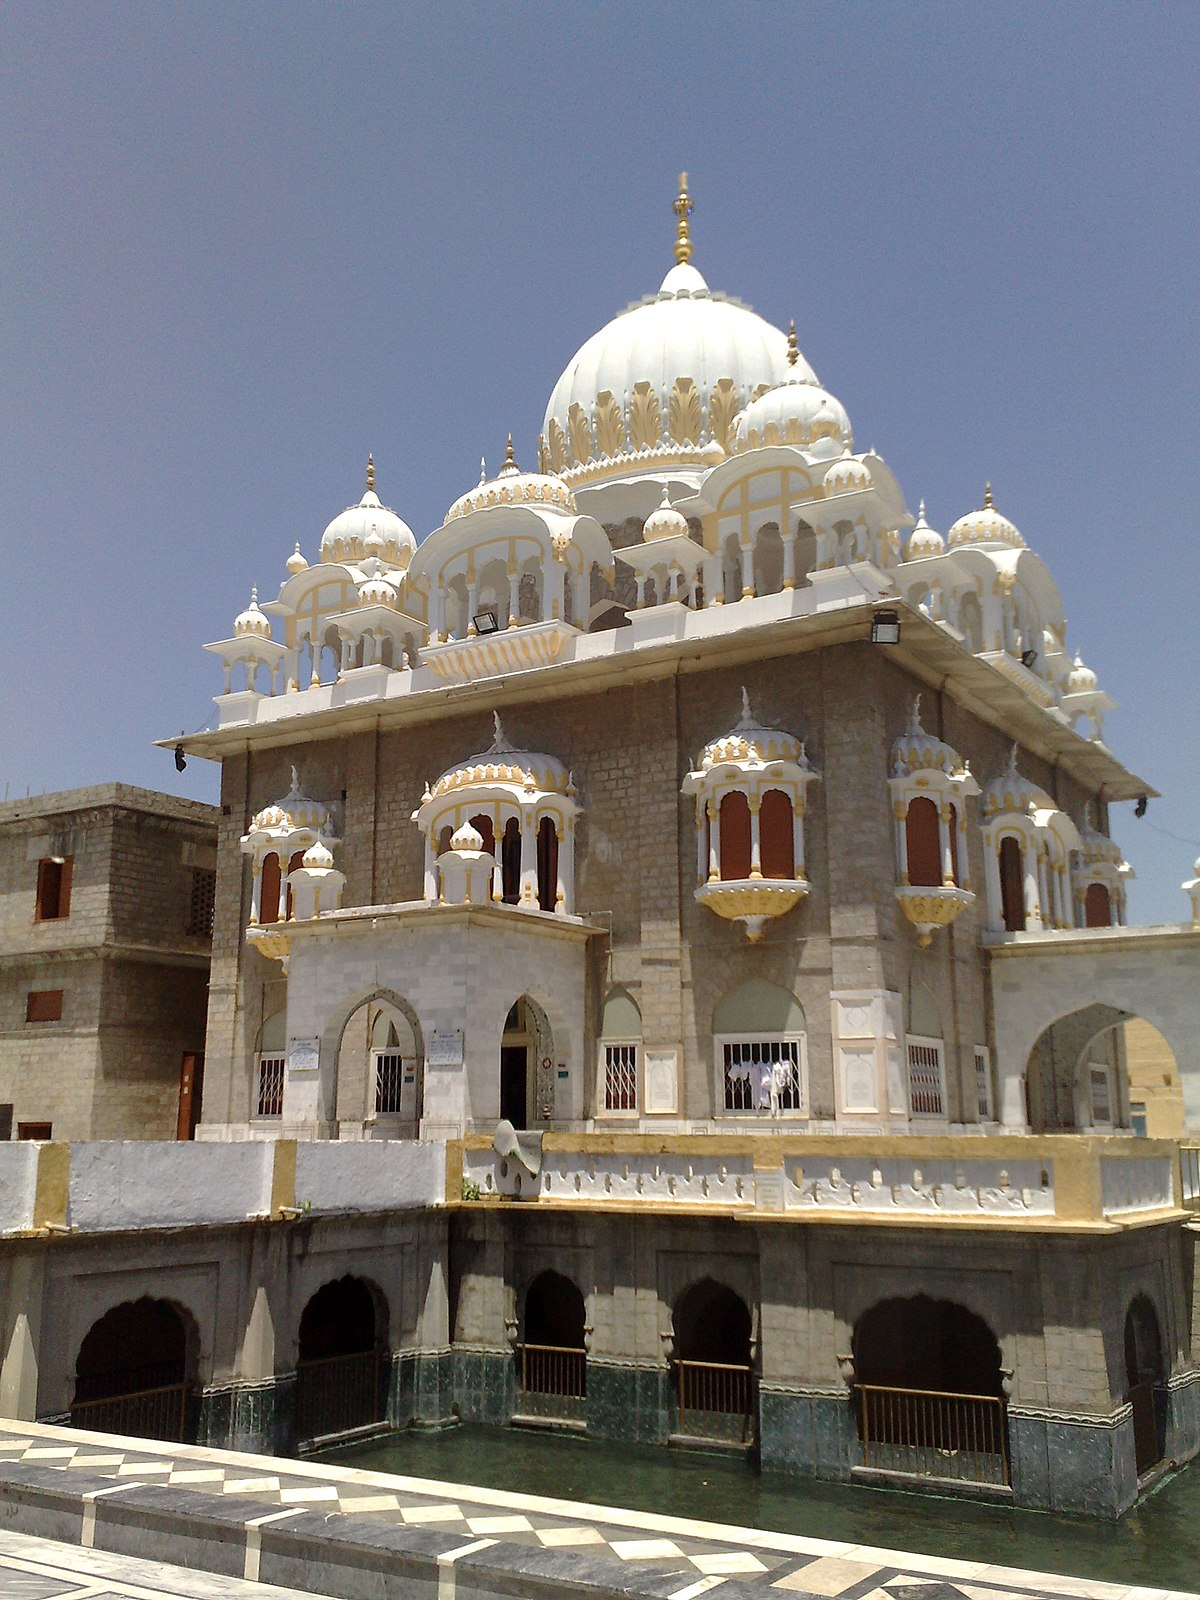Gurdwara: (208, 181, 1121, 1288)
